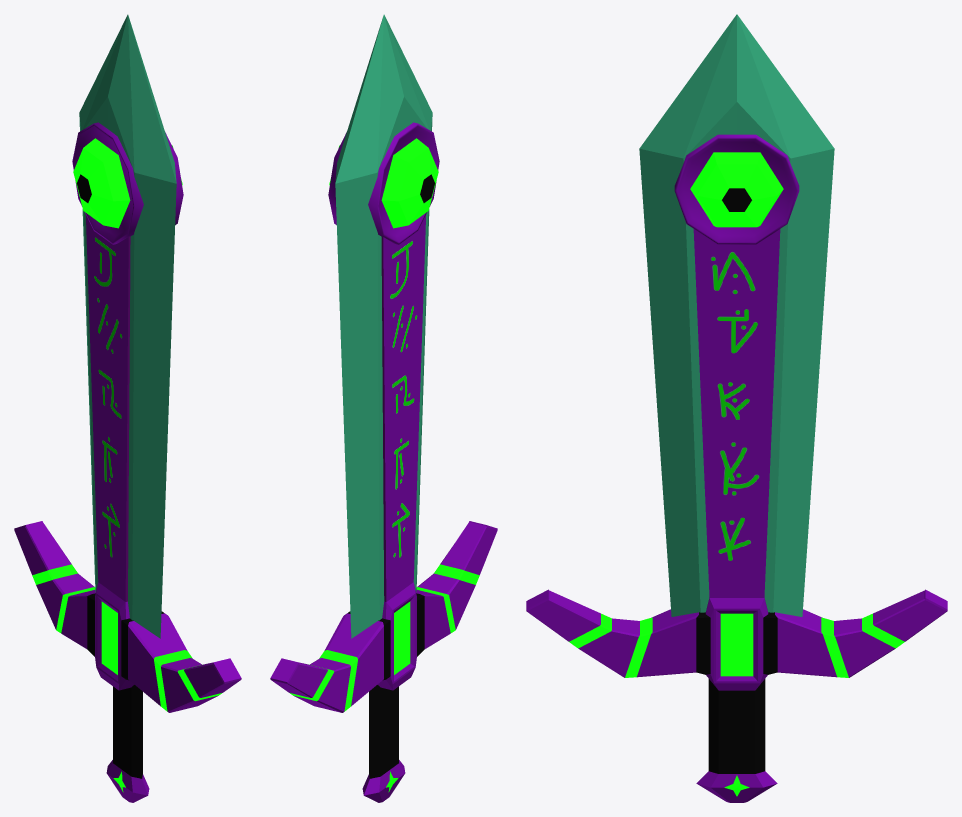
The model's file is mithril eye sword.fbx.
3 renders of one model, left to right at view 1: azimuth 30°, elevation 25°; view 2: azimuth 150°, elevation 25°; view 3: azimuth 270°, elevation 25°, orthographic.
Parts seen in each view (by area): view 1: Cube.001; view 2: Cube.001; view 3: Cube.001.
Part boxes in pixels (x1,y1,x2,y2): Cube.001: (14,14,241,802); Cube.001: (270,14,497,802); Cube.001: (526,14,947,802).
Bounding box in the file's own units: 90.71 × 780 × 378.
